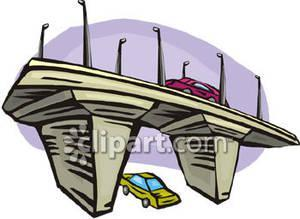car: (118, 168, 180, 212), (160, 75, 230, 108)
